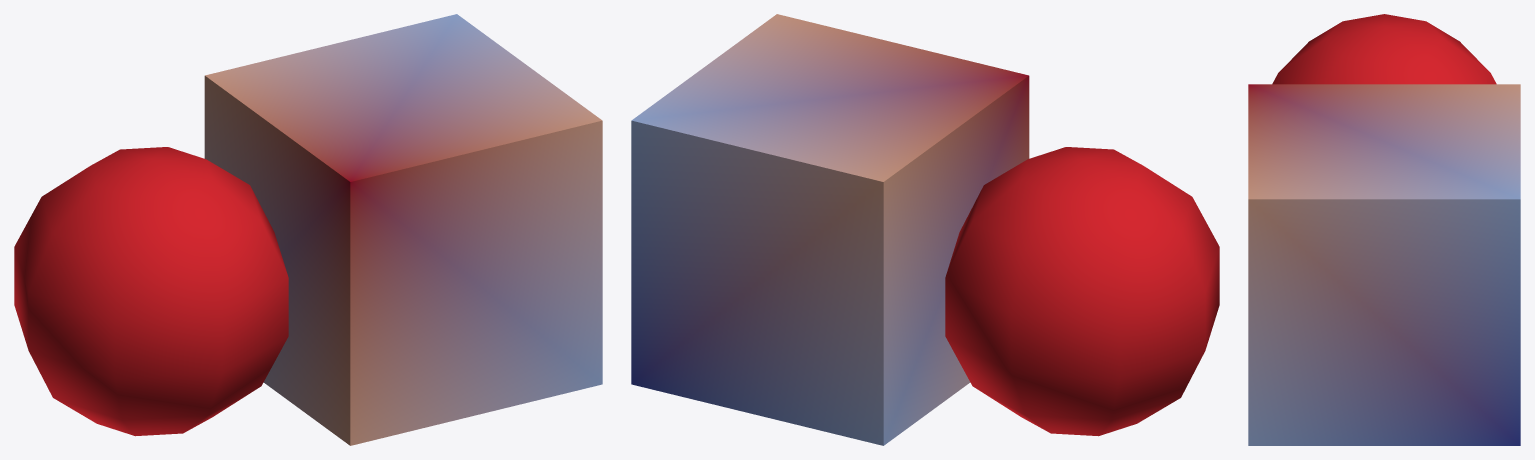
The picture shows the model from 3 angles, left to right: view 1: azimuth 30°, elevation 25°; view 2: azimuth 150°, elevation 25°; view 3: azimuth 270°, elevation 25°; orthographic projection. The views are drawn at different scales.
Visible parts, largest first — view 1: SubMesh-0, SubMesh-1; view 2: SubMesh-0, SubMesh-1; view 3: SubMesh-0, SubMesh-1.
Part boxes in pixels (<box>): SubMesh-0: <box>204,14,602,445</box>; SubMesh-1: <box>14,147,288,436</box>; SubMesh-0: <box>631,14,1029,445</box>; SubMesh-1: <box>945,147,1219,436</box>; SubMesh-0: <box>1248,84,1520,445</box>; SubMesh-1: <box>1272,14,1496,84</box>.
Size of the model in its own units: 1.99 by 1 by 1.
